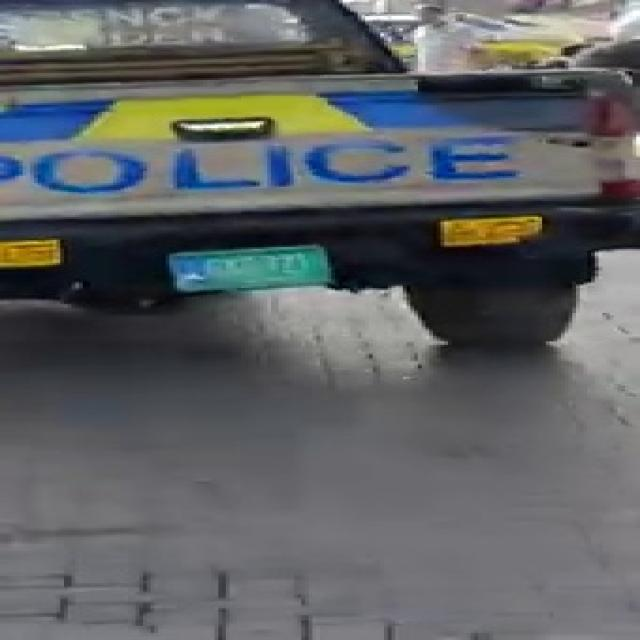police: (18, 14, 598, 330)
